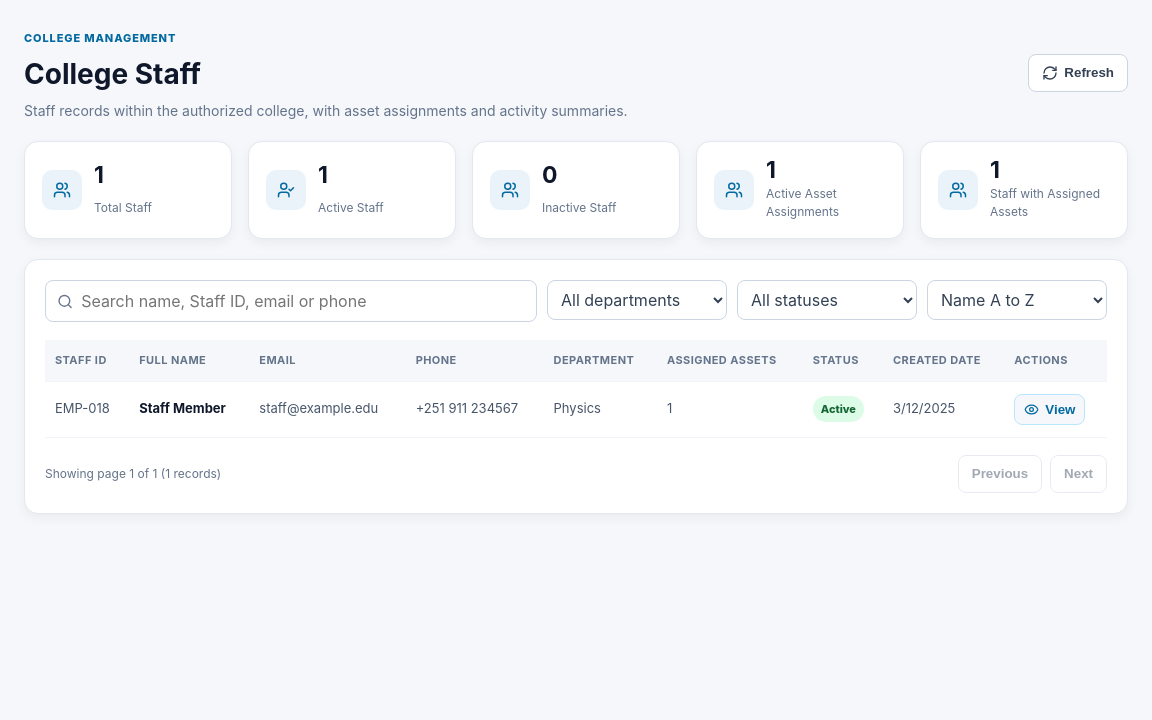
Scenario: regular College users can view staff but cannot manage staff accounts or assignments
Check: the text "Staff Member" is shown, box [139,399,239,419]
What coordinates should you click on to do the following:
click the button with aria-label "View: EMP-018"
I would click on:
 (1050, 409)
Its box is [1014,394,1085,424].
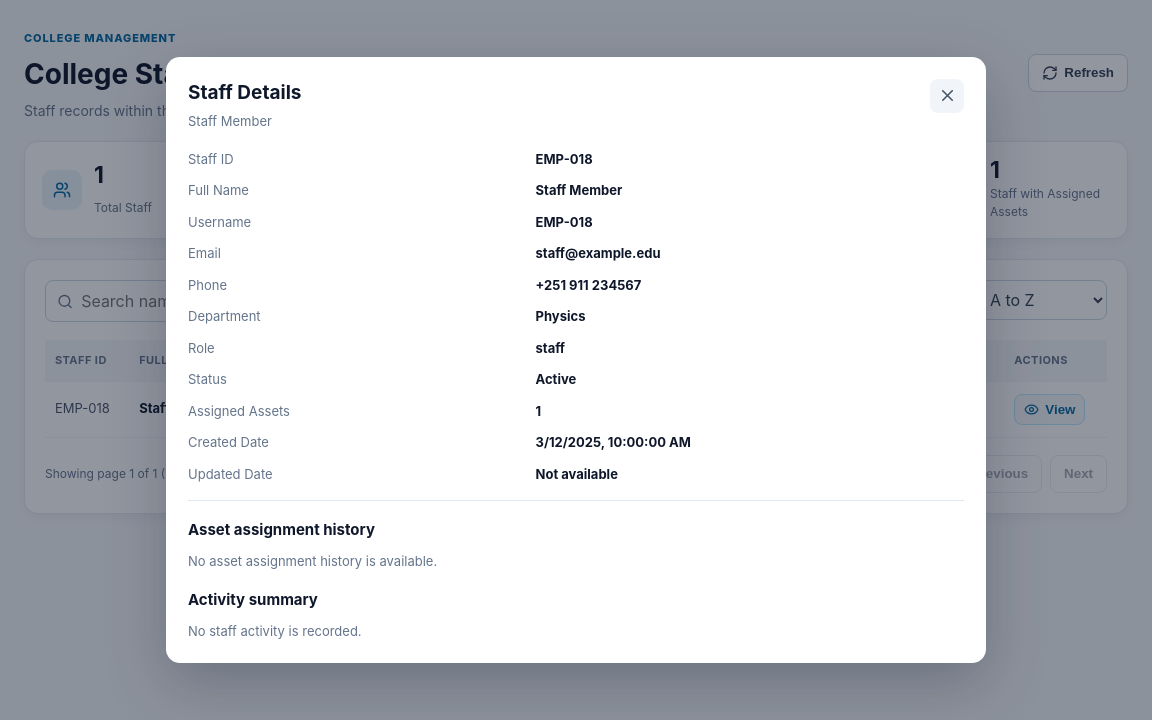
Check: the text "staff" is shown, box [536,340,565,356]
